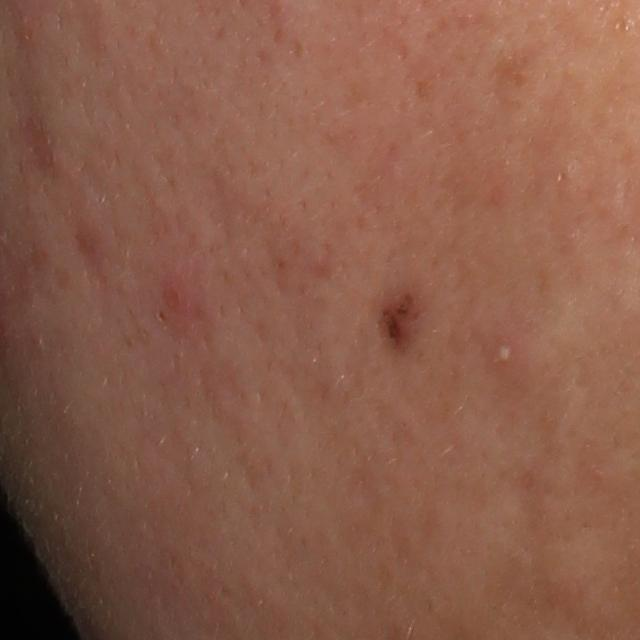hypertrophic_scar: (534, 529, 622, 628)
nevus: (361, 277, 436, 366)
pustule: (487, 331, 520, 372)
